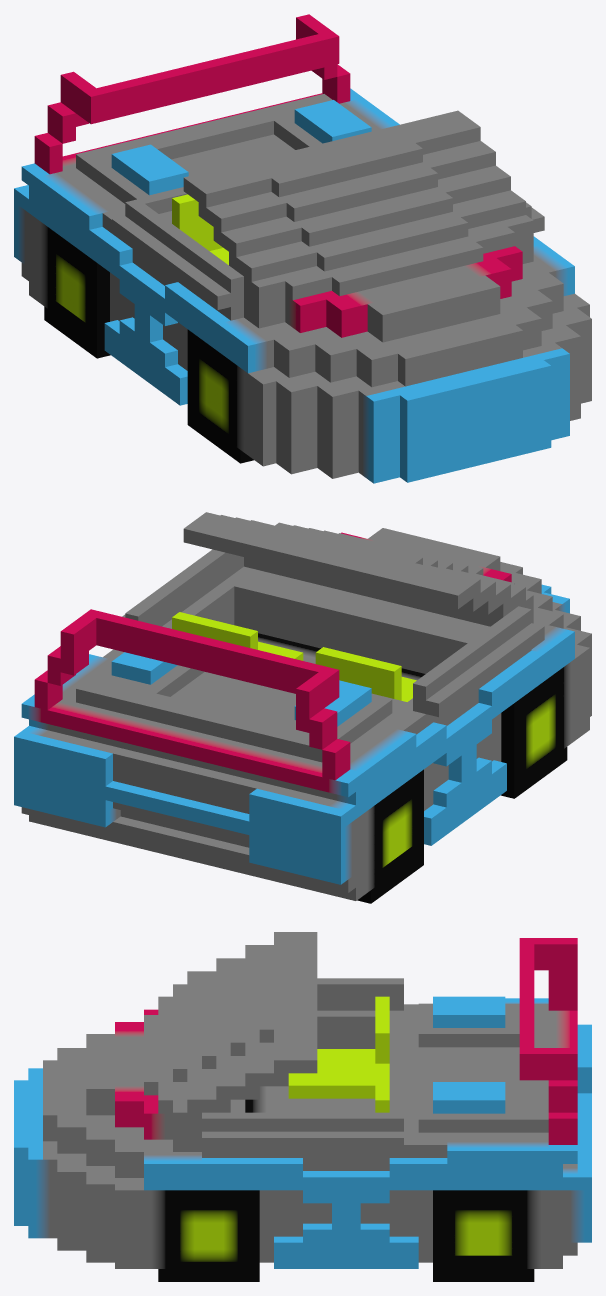
File: Car_39.fbx
The picture shows the model from 3 angles, top to bottom: view 1: azimuth 30°, elevation 25°; view 2: azimuth 150°, elevation 25°; view 3: azimuth 270°, elevation 25°; orthographic projection. The views are drawn at different scales.
Visible parts, largest first — view 1: Car_39; view 2: Car_39; view 3: Car_39.
Boxes of the visible parts, x1,y1,x2,y2 form: Car_39: (14,14,591,483); Car_39: (14,512,591,903); Car_39: (14,932,591,1281).
Size of the model in its own units: 25 by 16 by 40.
Materials: 1 (1 with a texture image).
